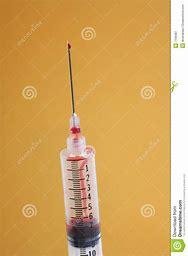Syringe: (49, 34, 115, 256)
